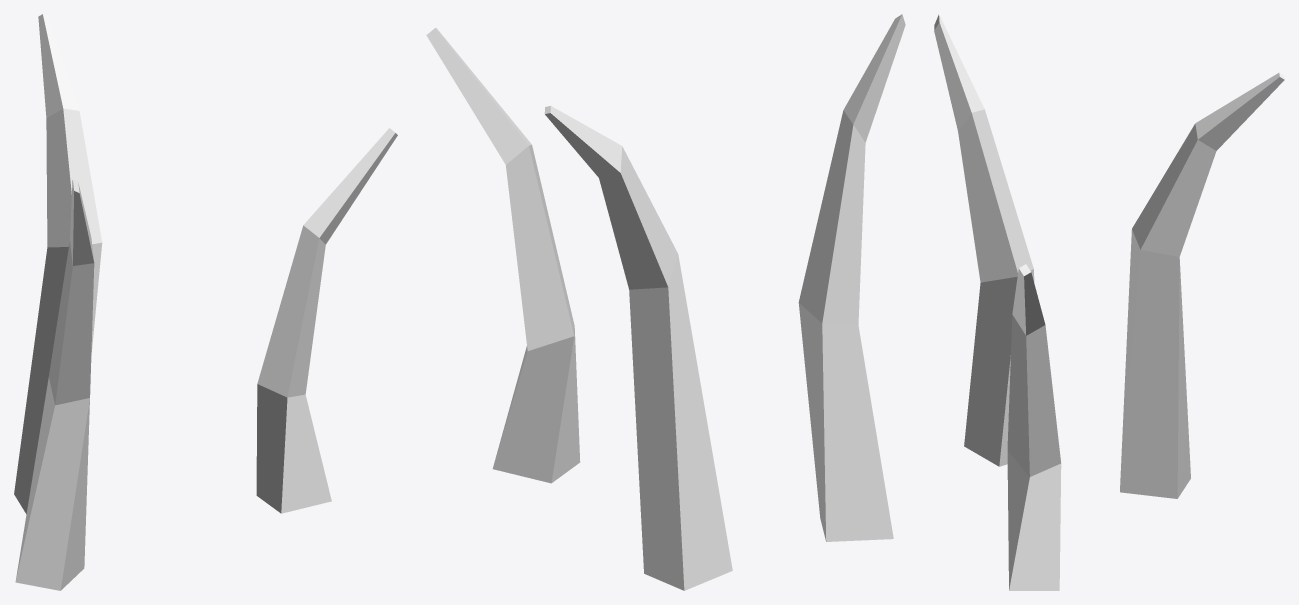
Rendered from GrassWinter2_Alt1.fbx.
3 renders of one model, left to right at view 1: azimuth 30°, elevation 25°; view 2: azimuth 150°, elevation 25°; view 3: azimuth 270°, elevation 25°, orthographic. The views are drawn at different scales.
Visible parts, largest first — view 1: GrassWinter2_Alt1; view 2: GrassWinter2_Alt1; view 3: GrassWinter2_Alt1.
Boxes of the visible parts, box(x1,y1,x2,y2) form: GrassWinter2_Alt1: box(14, 14, 397, 590); GrassWinter2_Alt1: box(426, 14, 905, 590); GrassWinter2_Alt1: box(934, 14, 1284, 590).
Size of the model in its own units: 0.3561 by 0.3746 by 0.2695.
